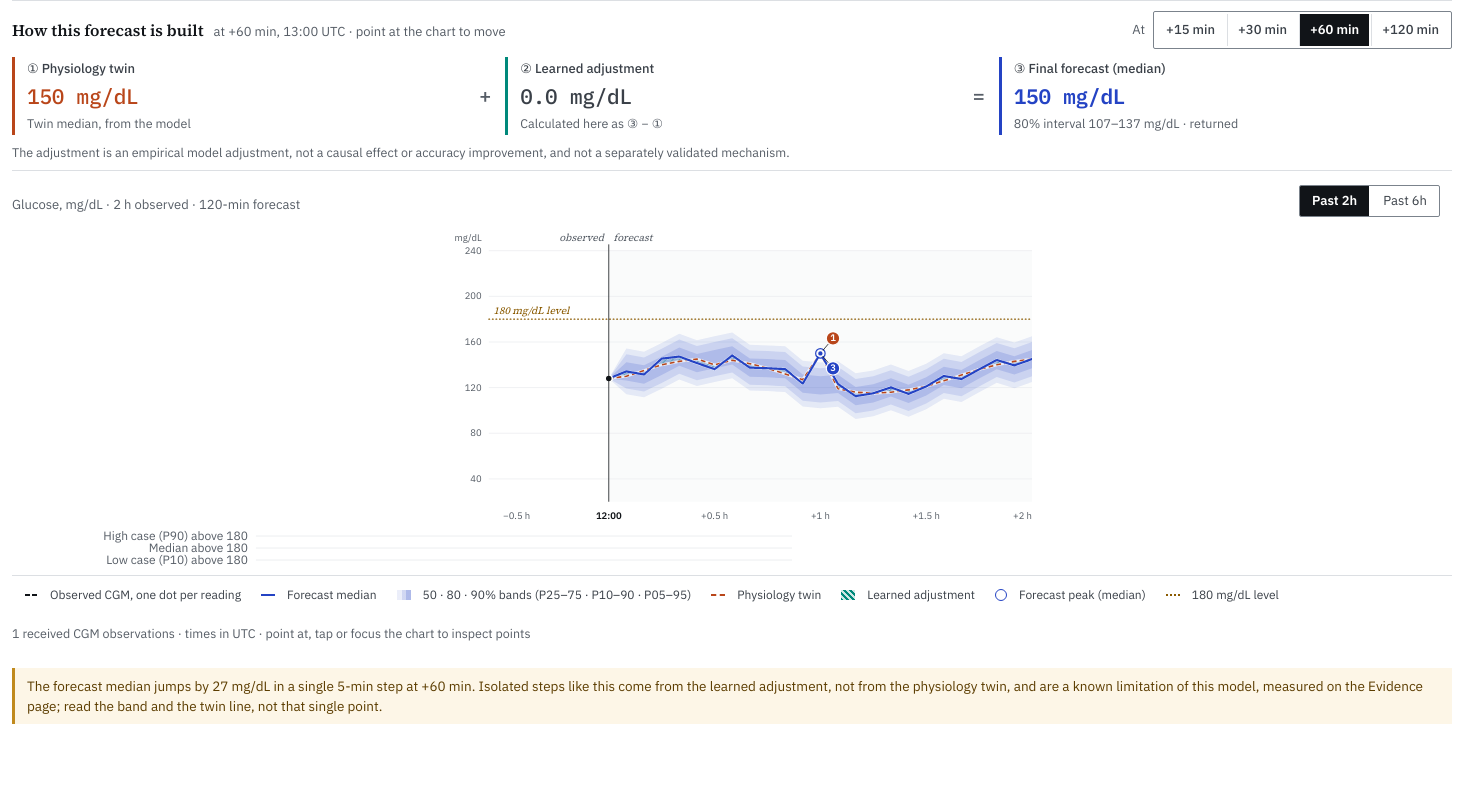
TOP-1 P1: Visible Hybrid Value + End-to-End Resilience › Task A: Physics prior vs. hybrid forecast Inspector › calculates difference as p50 - twin_p50 and formats positive, negative, and zero values
Check: the text with test id "physics-prior-value" reads "150 mg/dL", box [27,82,138,110]
Check: the text with test id "hybrid-forecast-value" reads "150 mg/dL", box [1014,82,1125,110]
Click +15m pill
Click the button with test id "horizon-pill-15".
click(1191, 30)  # box [1156,14,1225,46]
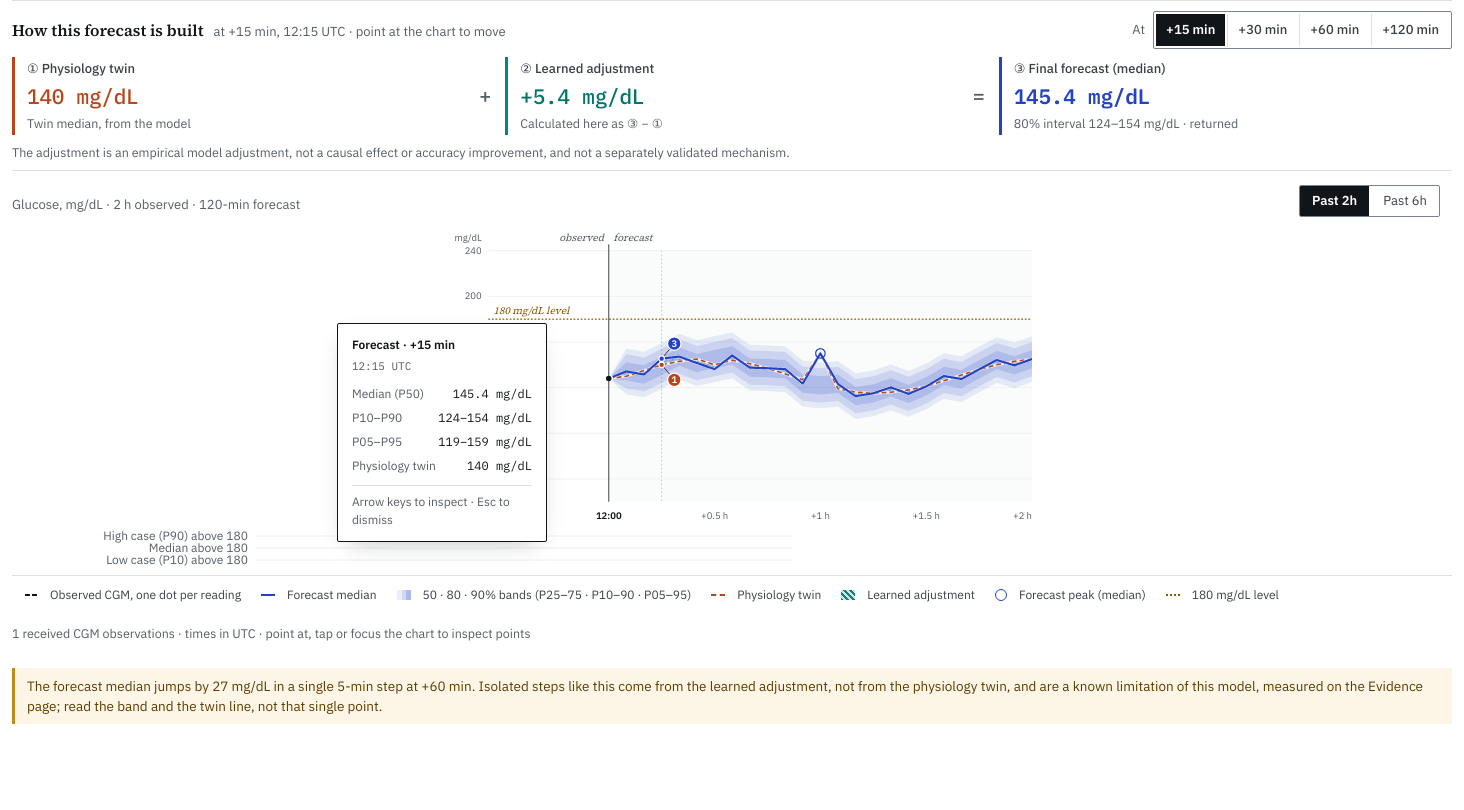
Check: the text with test id "physics-prior-value" reads "140 mg/dL", box [27,82,138,110]
Check: the text with test id "hybrid-forecast-value" reads "145.4 mg/dL", box [1014,82,1150,110]
Check: the text with test id "forecast-adjustment-value" reads "+5.4 mg/dL", box [520,82,644,110]
Click +30m pill
Click the button with test id "horizon-pill-30".
click(1262, 30)  # box [1227,14,1297,46]
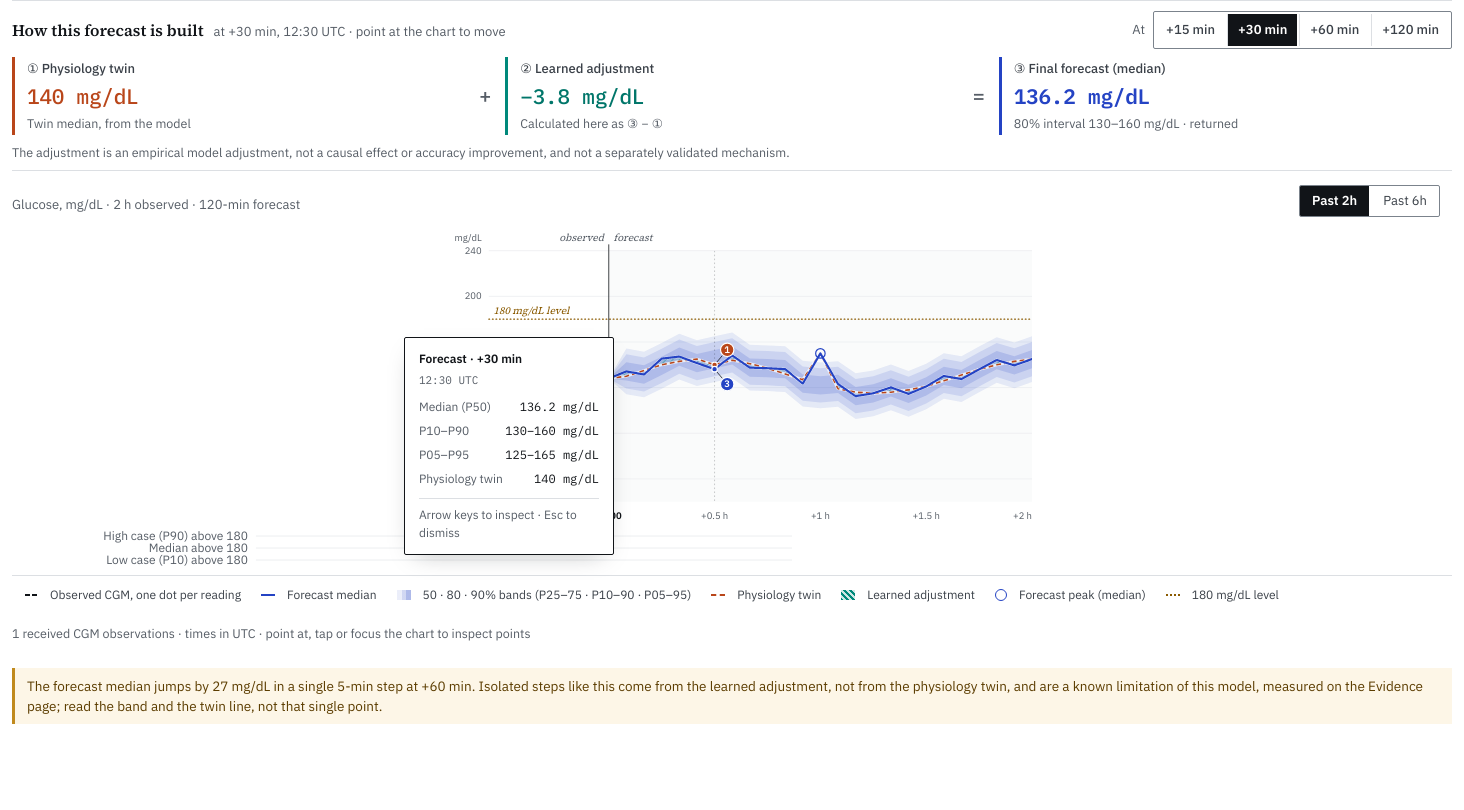
Check: the text with test id "physics-prior-value" reads "140 mg/dL", box [27,82,138,110]
Check: the text with test id "hybrid-forecast-value" reads "136.2 mg/dL", box [1014,82,1150,110]
Check: the text with test id "forecast-adjustment-value" reads "−3.8 mg/dL", box [520,82,644,110]
